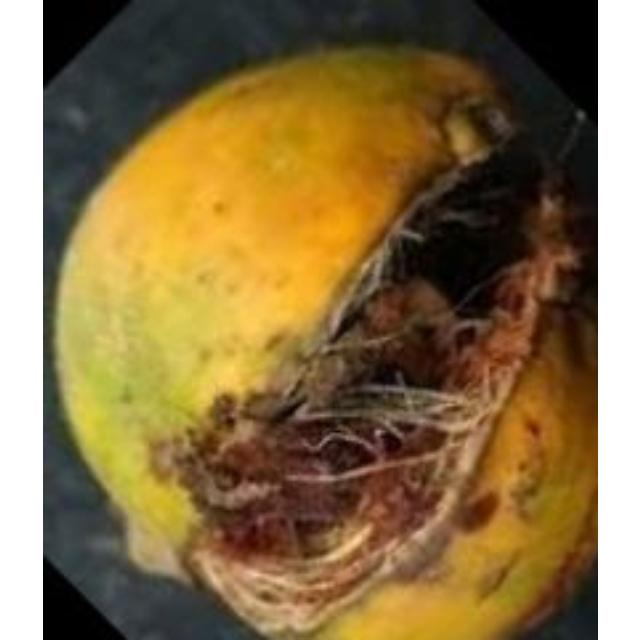damaged: (55, 48, 594, 637)
